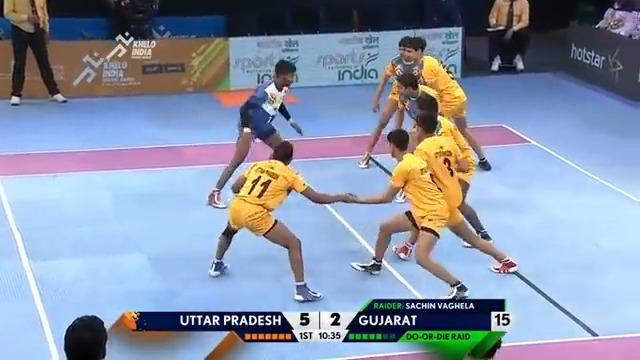Player: (341, 115, 518, 299), (207, 140, 356, 302), (357, 35, 491, 171), (357, 35, 424, 168), (2, 0, 68, 105)
Raider: (206, 58, 303, 209)
referee: (485, 0, 531, 72), (111, 0, 170, 42), (593, 0, 639, 39)
